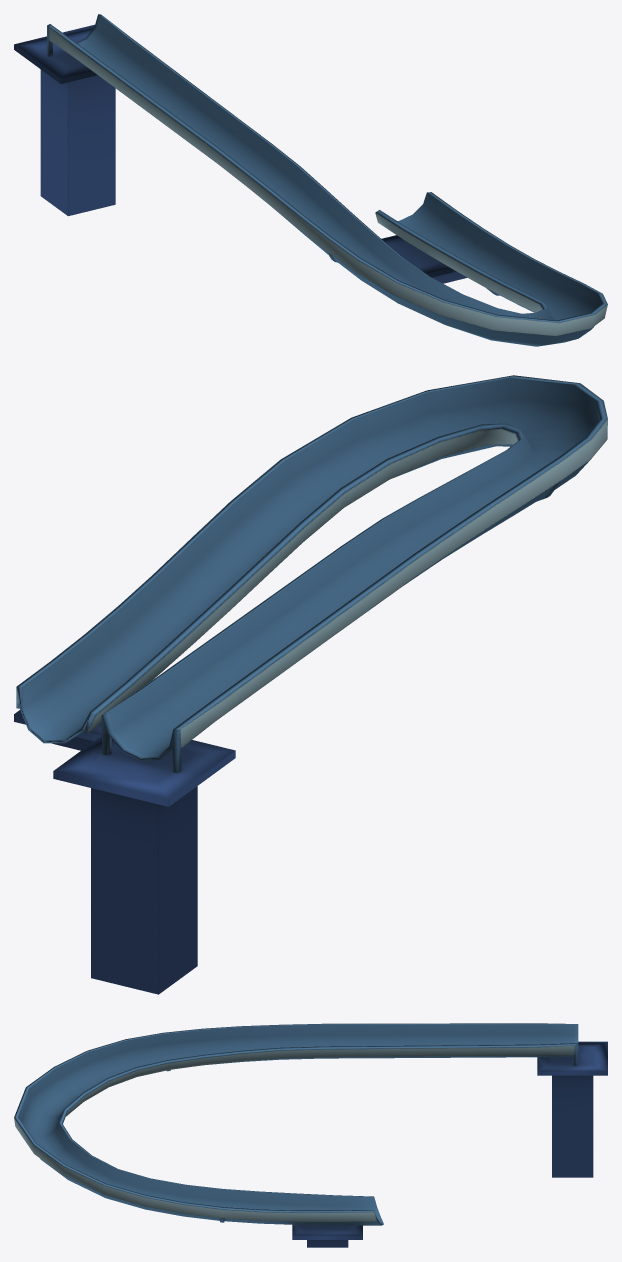
File: slide (1).fbx
3 renders of one model, top to bottom at view 1: azimuth 30°, elevation 25°; view 2: azimuth 150°, elevation 25°; view 3: azimuth 270°, elevation 25°, orthographic. The views are drawn at different scales.
Visible parts, largest first — view 1: slide; view 2: slide; view 3: slide.
Part boxes in pixels (box(x1,y1,x2,y2)): slide: box(14, 14, 607, 346); slide: box(14, 375, 607, 994); slide: box(14, 1023, 607, 1247).
Size of the model in its own units: 11.41 by 7.24 by 28.69.
Materials: 1 (1 with a texture image).
